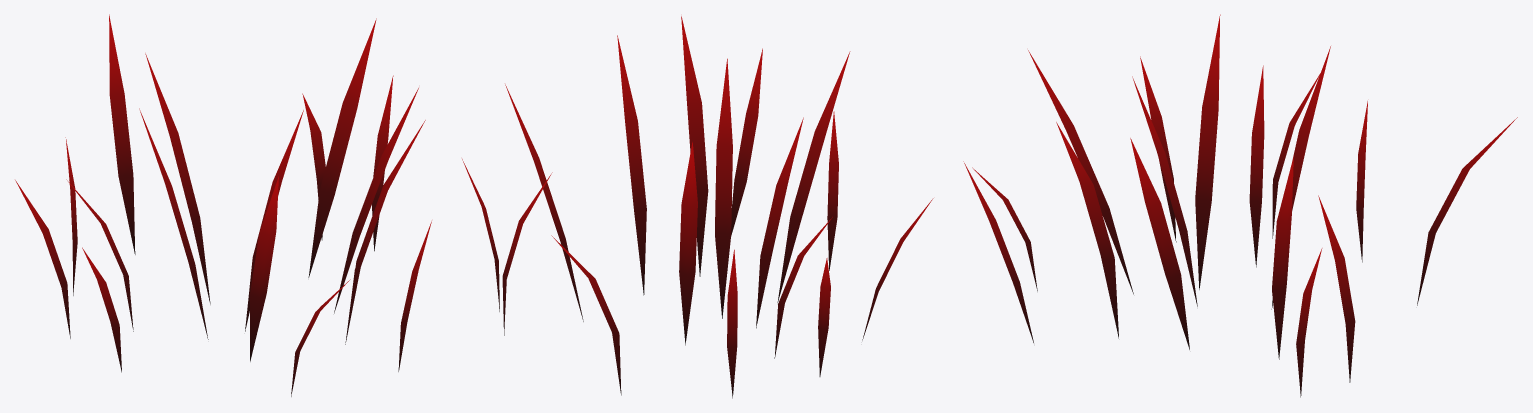
The model's file is Grass_01.fbx.
3 renders of one model, left to right at view 1: azimuth 30°, elevation 25°; view 2: azimuth 150°, elevation 25°; view 3: azimuth 270°, elevation 25°, orthographic. The views are drawn at different scales.
Visible parts, largest first — view 1: Grass; view 2: Grass; view 3: Grass.
Part boxes in pixels (<box>): Grass: <box>15,14,431,396</box>; Grass: <box>462,16,933,398</box>; Grass: <box>963,14,1517,397</box>.
Size of the model in its own units: 76.07 by 43.96 by 89.32.
